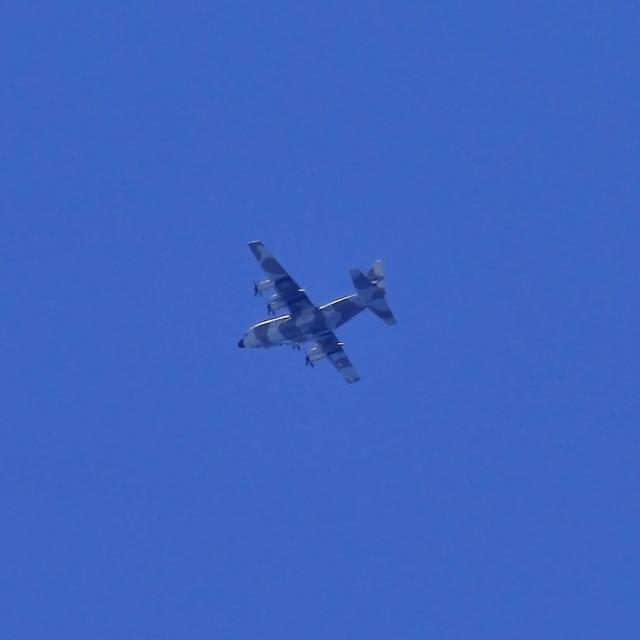MIL_Plane: (235, 240, 398, 384)
